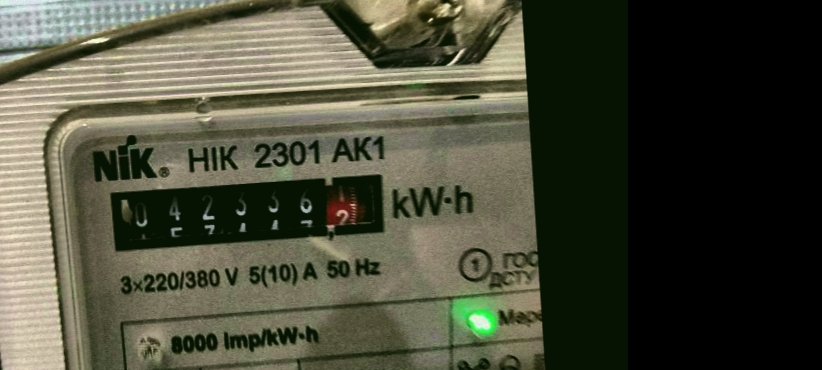0: (128, 199, 146, 228)
1: (330, 180, 344, 203)
2: (196, 191, 214, 220), (330, 206, 347, 225)
3: (260, 183, 277, 214), (228, 188, 245, 216)
4: (162, 192, 181, 222)
6: (294, 183, 312, 214)
screen: (95, 160, 395, 260)
